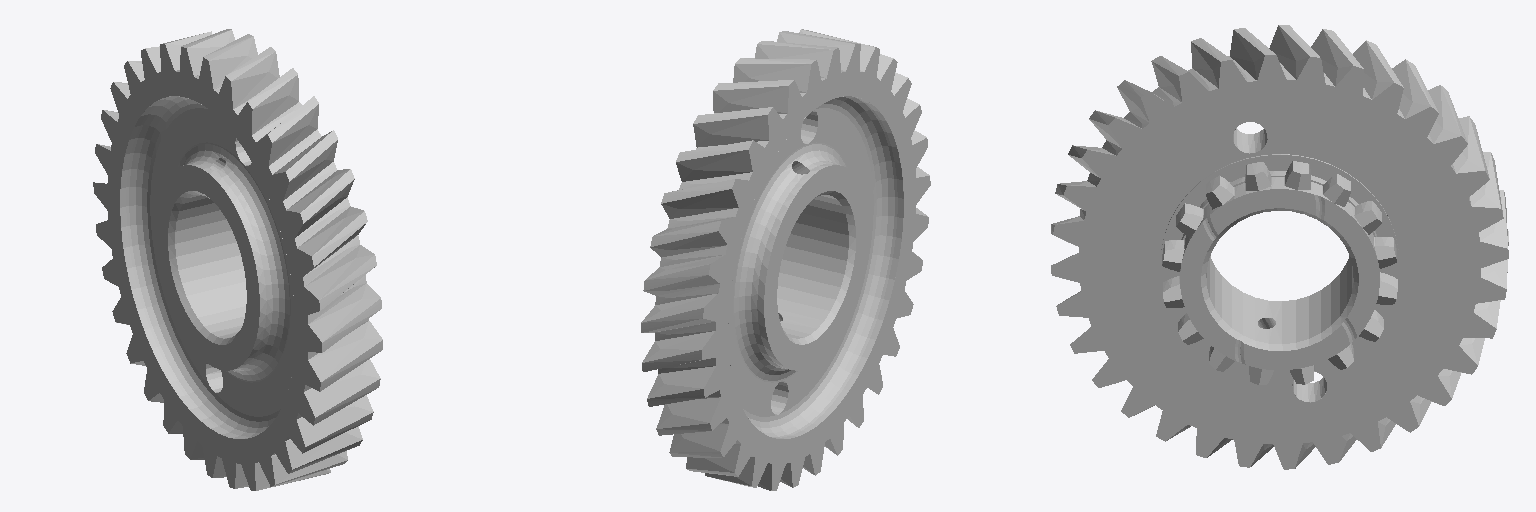
Rendered from 72. Шестерня второй передачи.obj.
3 renders of one model, left to right at view 1: azimuth 30°, elevation 25°; view 2: azimuth 150°, elevation 25°; view 3: azimuth 270°, elevation 25°, orthographic.
Parts seen in each view (by area): view 1: Твердое тело1, Solid1; view 2: Твердое тело1, Solid1; view 3: Твердое тело1, Solid1.
Part boxes in pixels (x1,y1,x2,y2): Твердое тело1: (111,79,303,454); Solid1: (93,29,382,490); Твердое тело1: (719,79,912,456); Solid1: (641,29,930,490); Твердое тело1: (1087,87,1472,436); Solid1: (1051,25,1508,469).
Bounding box in the file's own units: 32 × 130 × 130.